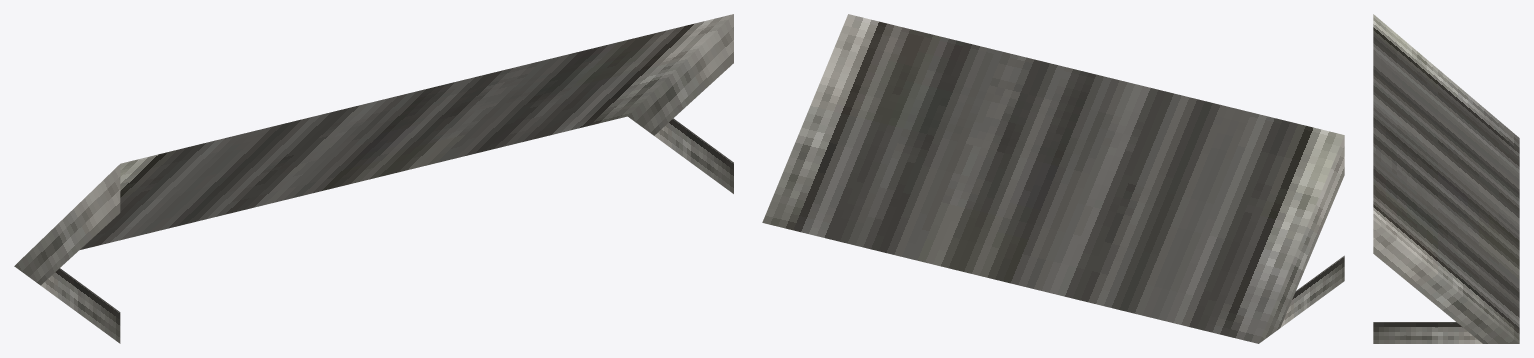
File: detail-awning-wide.glb
3 renders of one model, left to right at view 1: azimuth 30°, elevation 25°; view 2: azimuth 150°, elevation 25°; view 3: azimuth 270°, elevation 25°, orthographic. The views are drawn at different scales.
Visible parts, largest first — view 1: detail-awning-wide; view 2: detail-awning-wide; view 3: detail-awning-wide.
Boxes of the visible parts, x1,y1,x2,y2 form: detail-awning-wide: (14, 14, 733, 343); detail-awning-wide: (762, 14, 1344, 343); detail-awning-wide: (1373, 14, 1519, 343).
Bounding box in the file's own units: 1 × 0.2808 × 0.3.
Materials: 1 (1 with a texture image).
